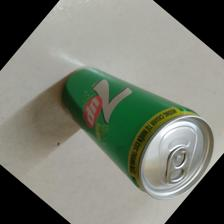7up: (61, 66, 215, 200)
